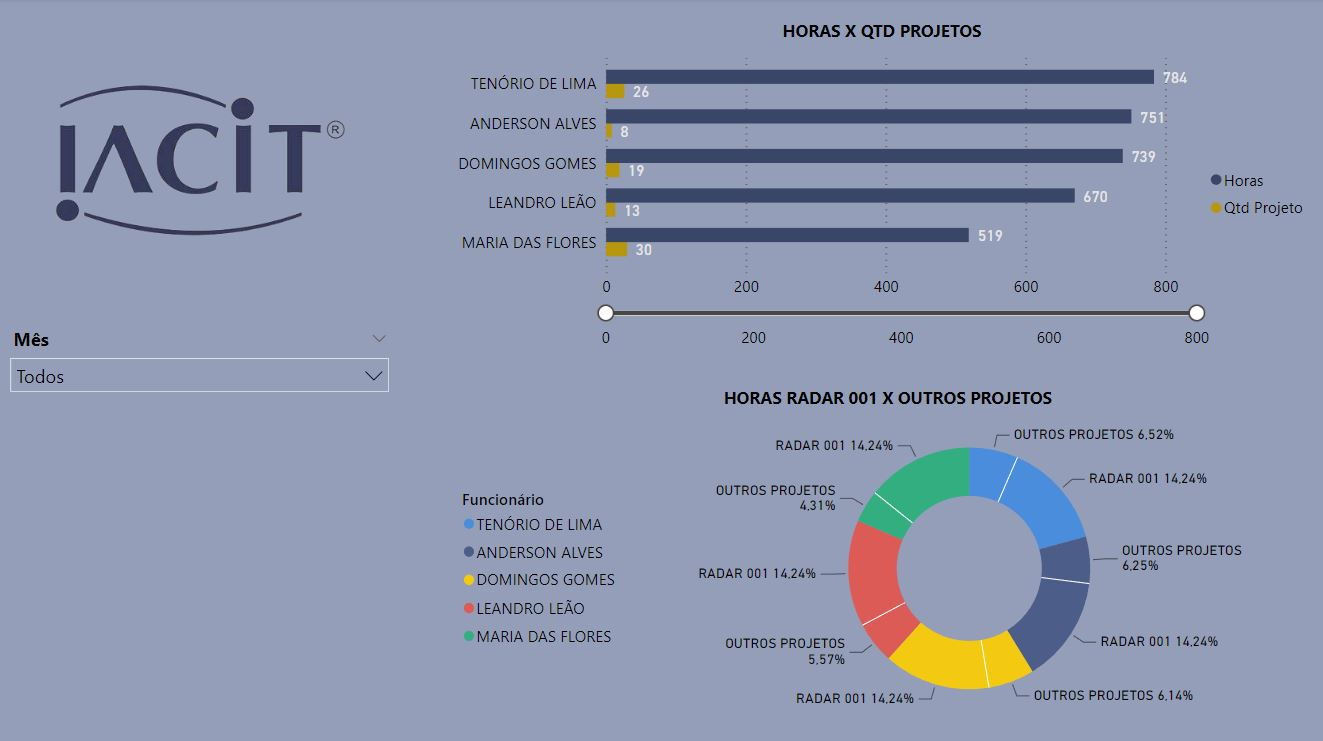

The dashboard page shown, as its layout file describes it:
{"tool":"powerbi","page":{"name":"DETALHAMENTO PROJETOS","canvas":[1280,720],"ordinal":2},"visuals":[{"type":"clusteredBarChart","title":"HORAS X QTD PROJETOS","fields":{"Category":["CONSOLIDADO ATIVIDADES.Funcionário"],"Y":["Sum(CONSOLIDADO ATIVIDADES.Horas)","CountNonNull(CONSOLIDADO ATIVIDADES.Projeto)"]},"box":[431.3,19.8,831.5,311],"z":0},{"type":"donutChart","title":"HORAS RADAR 001 X OUTROS PROJETOS","fields":{"Category":["CONSOLIDADO ATIVIDADES.Funcionário","REL DIÁRIO - HRS.Funcionário","REL DIÁRIO - HRS.Projeto"],"Y":["Sum(CONSOLIDADO ATIVIDADES.Horas)","Sum(REL DIÁRIO - HRS.Horas)"]},"box":[442.4,369.3,820.4,327.2],"z":1000},{"type":"slicer","fields":{"Values":["CONSOLIDADO ATIVIDADES.Mês.Variation.Hierarquia de datas.Mês"]},"box":[7.4,307.3,380.4,123.9],"z":2000},{"type":"image","box":[13.6,19.8,369.3,268.9],"z":3000}]}

Visuals, with their boxes in screenshot pixels (x1, y1, x2, y2), scaled from the page's 1280x720 canvas onto the 1323x741 screenshot:
"HORAS X QTD PROJETOS" clusteredBarChart: pyautogui.locateOnScreen(446, 20, 1305, 340)
"HORAS RADAR 001 X OUTROS PROJETOS" donutChart: pyautogui.locateOnScreen(457, 380, 1305, 717)
slicer - CONSOLIDADO ATIVIDADES.Mês.Variation.Hierarquia de datas.Mês: pyautogui.locateOnScreen(8, 316, 401, 444)
image: pyautogui.locateOnScreen(14, 20, 396, 297)
